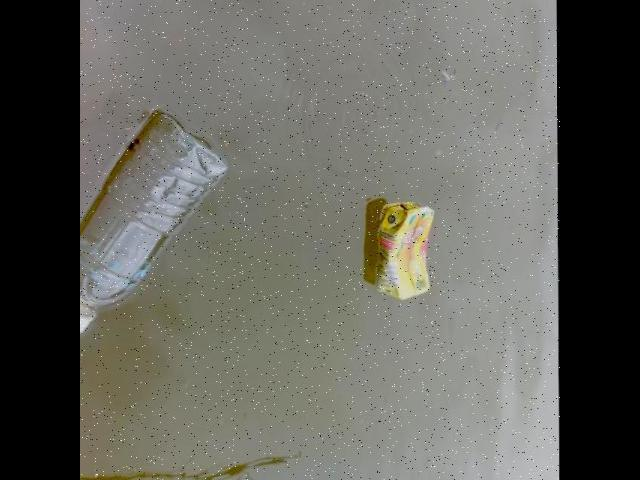Bottle: (80, 101, 233, 347)
Box: (364, 186, 444, 308)
